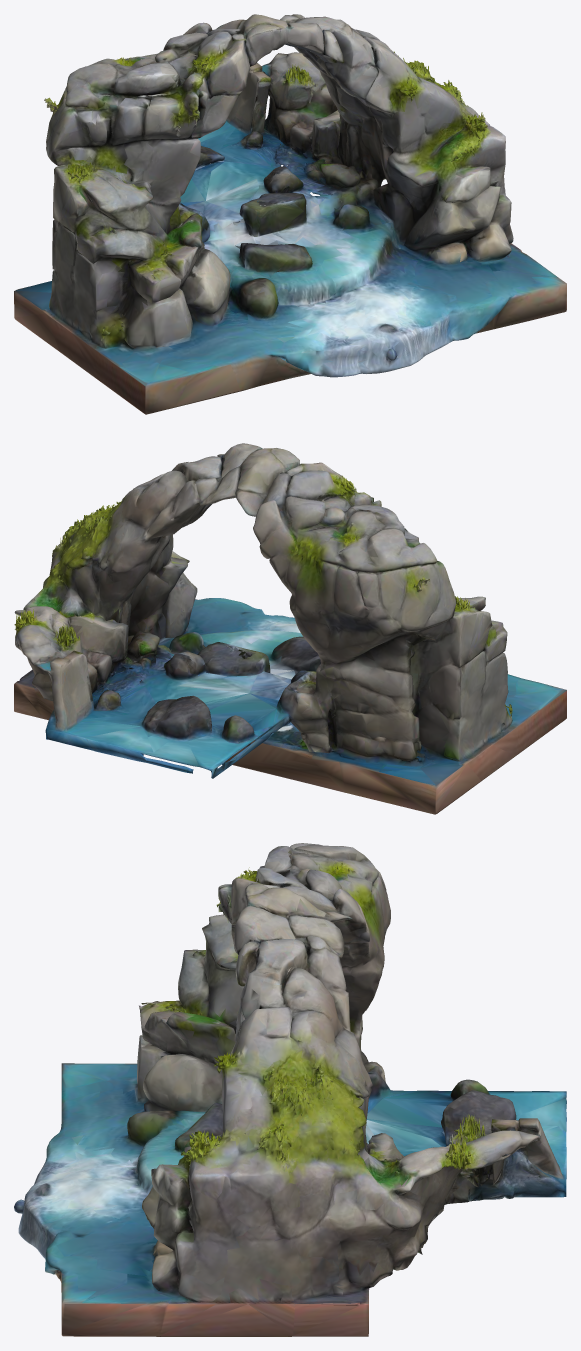
The model's file is highly_realistic_dior.glb.
3 views of the same model, one above another, from view 1: azimuth 30°, elevation 25°; view 2: azimuth 150°, elevation 25°; view 3: azimuth 270°, elevation 25° (orthographic). The views are drawn at different scales.
Parts seen in each view (by area): view 1: highly_realistic_dior; view 2: highly_realistic_dior; view 3: highly_realistic_dior.
Part boxes in pixels (x1,y1,x2,y2): highly_realistic_dior: [14, 14, 566, 414]; highly_realistic_dior: [14, 443, 566, 814]; highly_realistic_dior: [14, 843, 566, 1336].
Bounding box in the file's own units: 2 × 1.27 × 1.95.
Materials: 1 (1 with a texture image).
